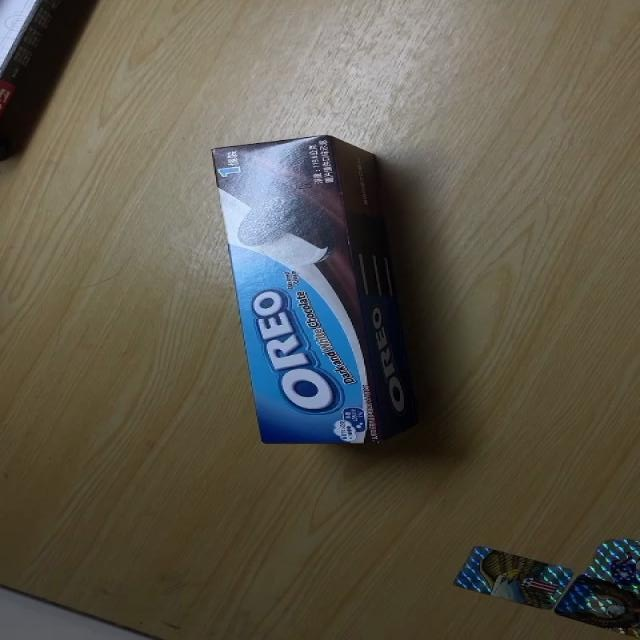Oreo: (206, 131, 412, 445)
